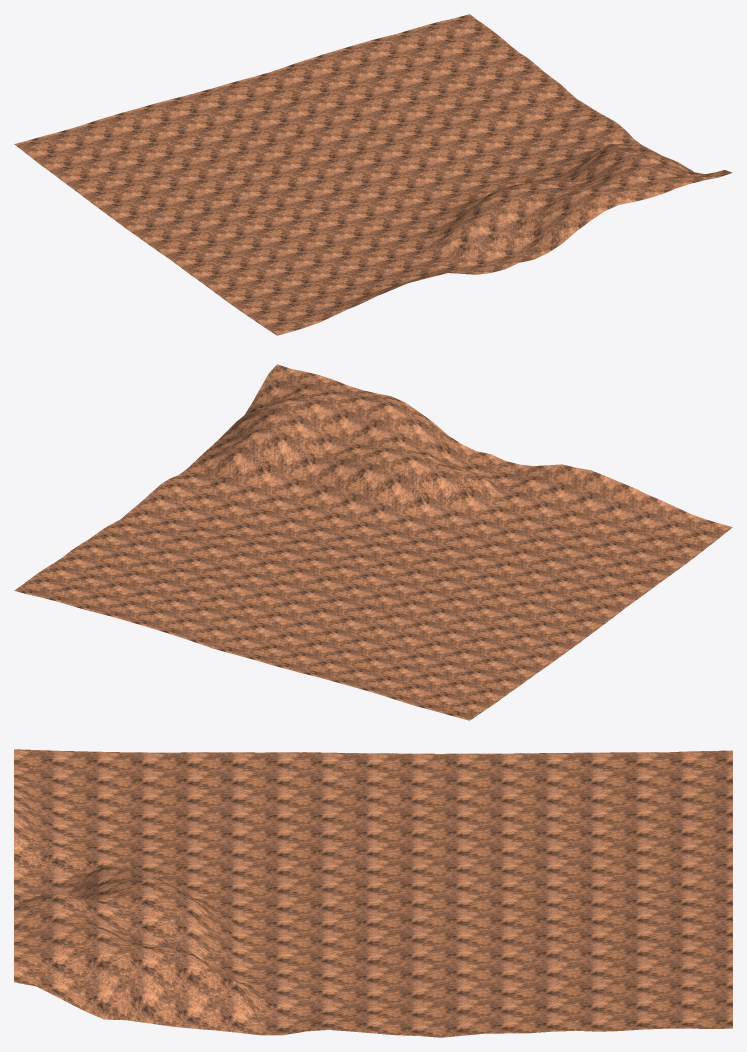
File: terrain_01_10.dae
3 views of the same model, one above another, from view 1: azimuth 30°, elevation 25°; view 2: azimuth 150°, elevation 25°; view 3: azimuth 270°, elevation 25° (orthographic). The views are drawn at different scales.
Parts seen in each view (by area): view 1: terrain_01_10-node; view 2: terrain_01_10-node; view 3: terrain_01_10-node.
Part boxes in pixels (x1,y1,x2,y2): terrain_01_10-node: (14,14,732,335); terrain_01_10-node: (14,364,732,720); terrain_01_10-node: (14,749,732,1037).
Bounding box in the file's own units: 128 × 128 × 15.11.
Materials: 1 (1 with a texture image).
